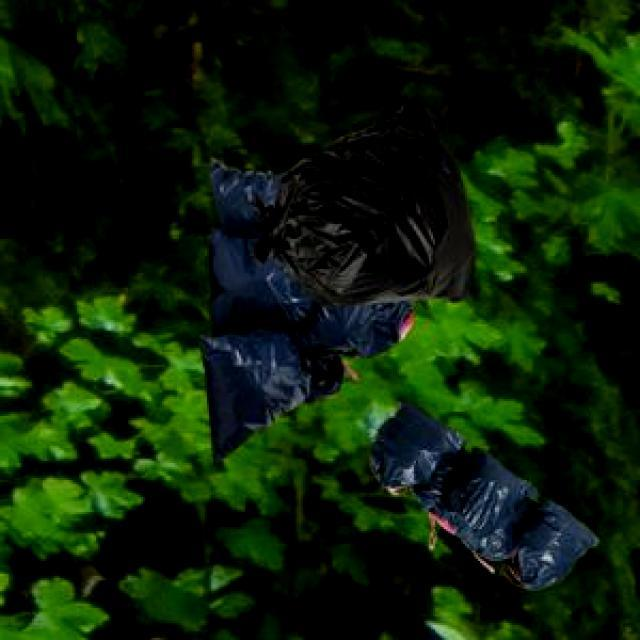Trashbag: (251, 95, 484, 312), (198, 332, 314, 469), (310, 299, 422, 364), (448, 456, 526, 544), (516, 502, 598, 584), (373, 405, 454, 483)
